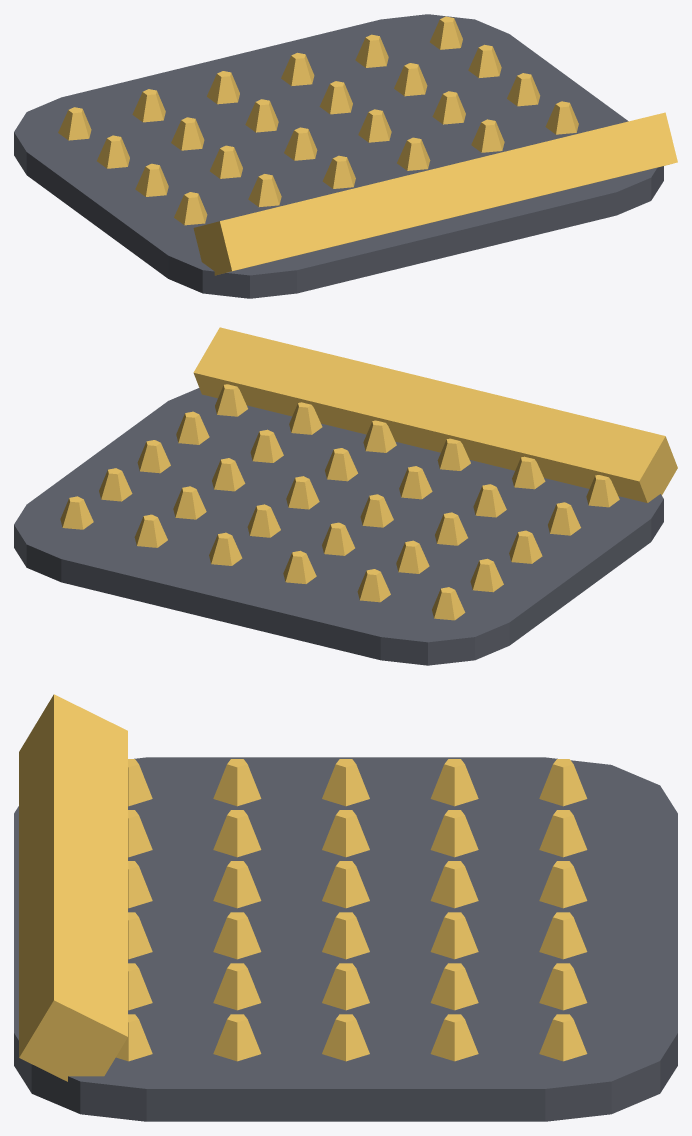
File: snowboard-gear-and-freestyle-riders-stomp-pad-5a4c1a91__27154.glb
The picture shows the model from 3 angles, top to bottom: view 1: azimuth 30°, elevation 25°; view 2: azimuth 150°, elevation 25°; view 3: azimuth 270°, elevation 25°; orthographic projection. The views are drawn at different scales.
Visible parts, largest first — view 1: stomp-pad; view 2: stomp-pad; view 3: stomp-pad.
Part boxes in pixels (x1,y1,x2,y2): stomp-pad: (14, 14, 677, 298); stomp-pad: (14, 327, 677, 665); stomp-pad: (14, 694, 677, 1121).
Size of the model in its own units: 0.13 by 0.0199 by 0.11.
